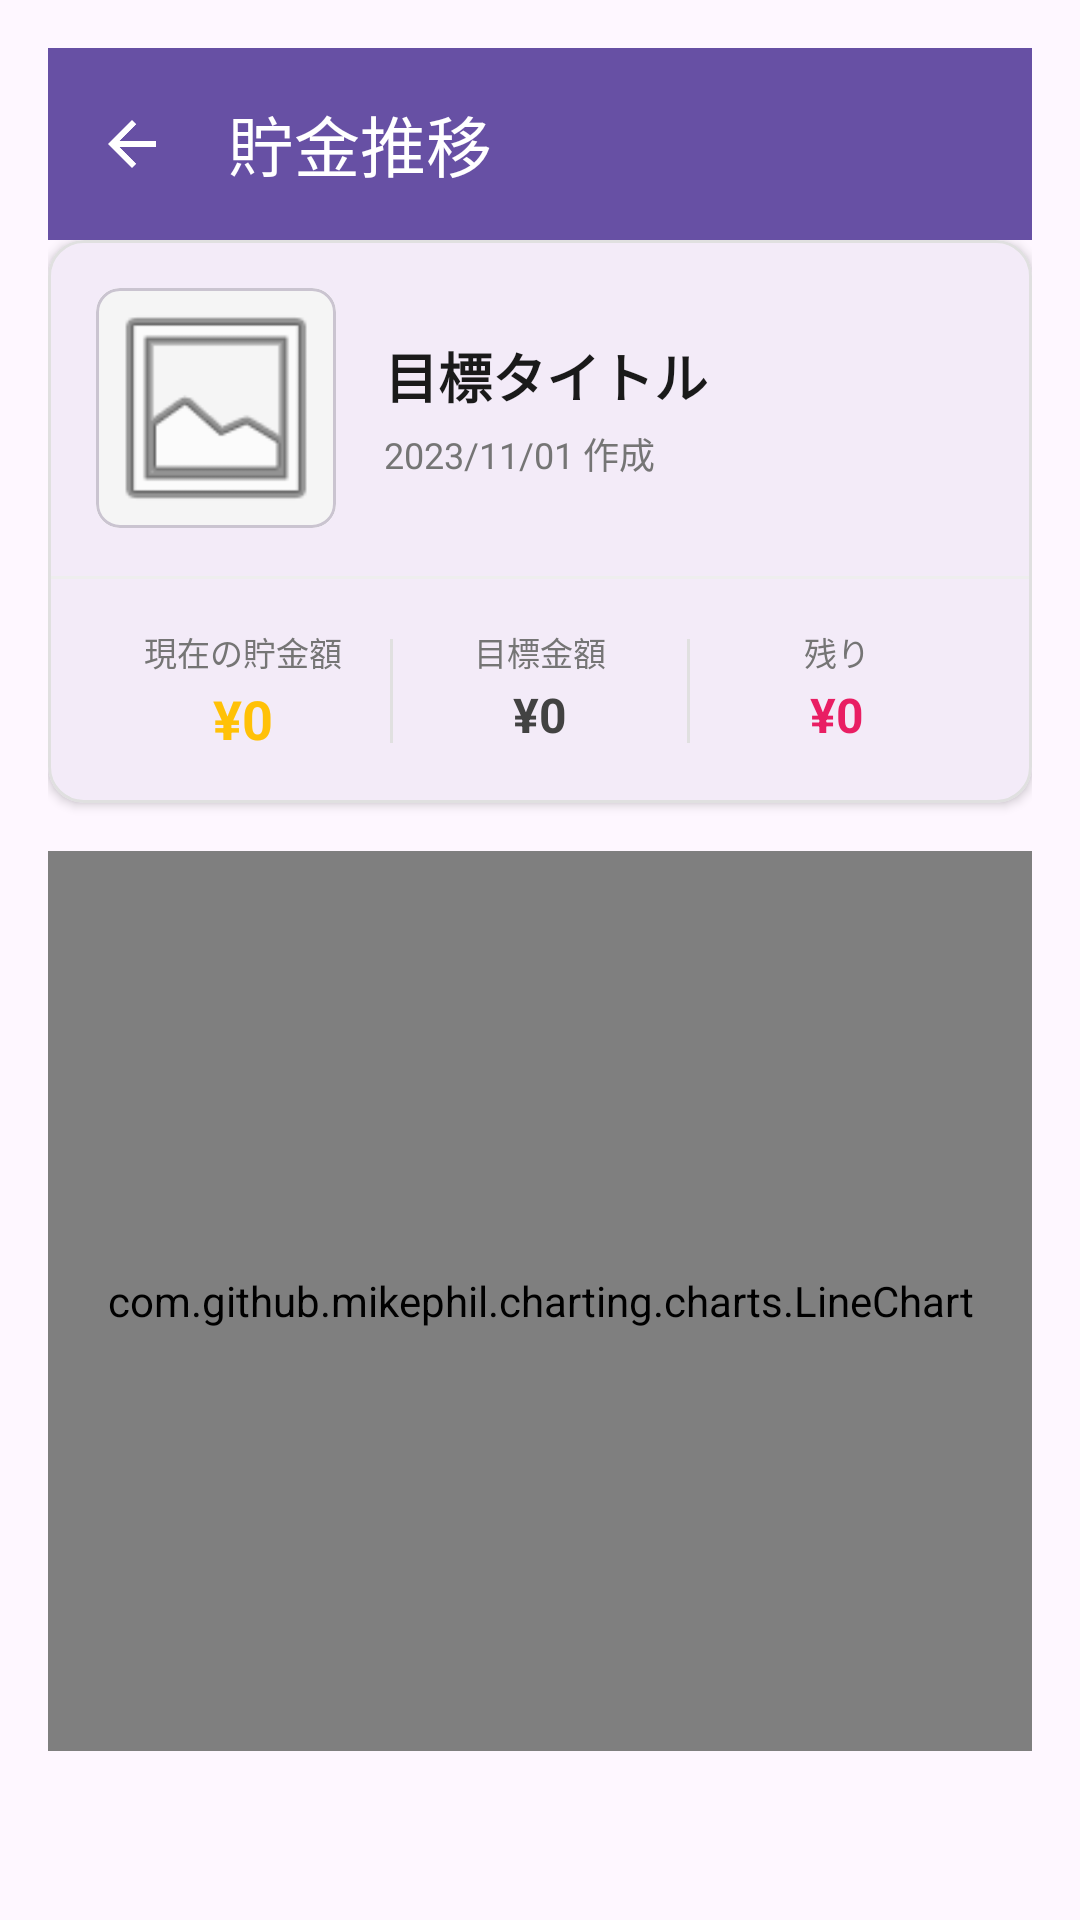

Locate icon controls on the screen. Image size 1080 x 1920, boxes as (x1, y1, x2, y2).
gallery: (96, 288, 336, 528)
